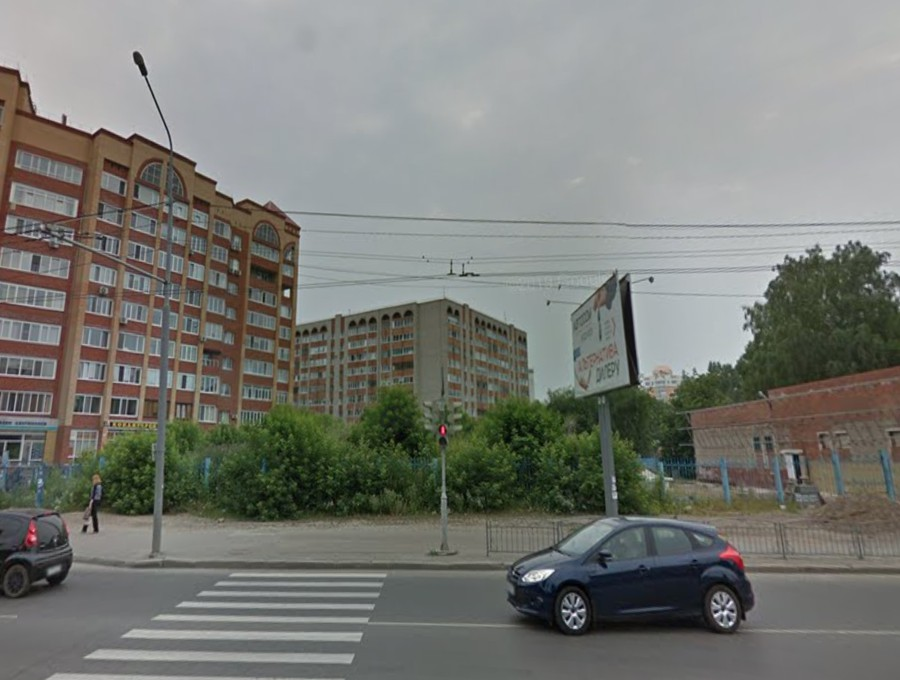Traffic Light-red: (438, 427, 449, 447)
